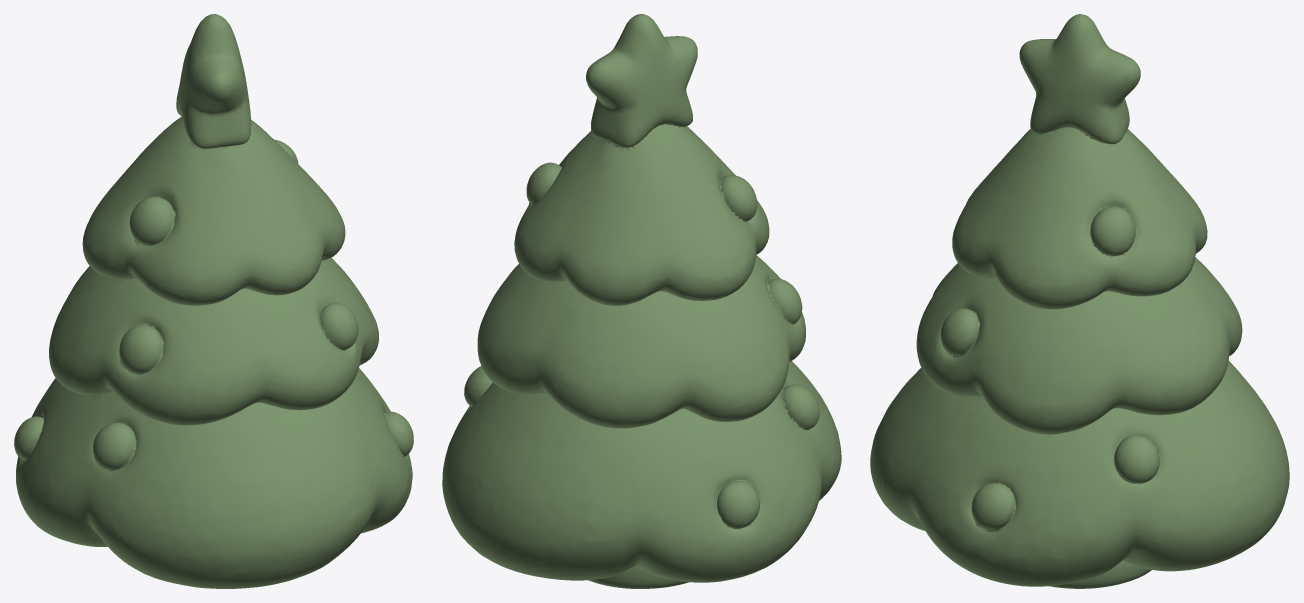
Rendered from christmas-tree.glb.
3 views of the same model, side by side, from view 1: azimuth 30°, elevation 25°; view 2: azimuth 150°, elevation 25°; view 3: azimuth 270°, elevation 25° (orthographic).
Visible parts, largest first — view 1: tripo_printable_source; view 2: tripo_printable_source; view 3: tripo_printable_source.
Boxes of the visible parts, bbox=[...] form: tripo_printable_source: bbox=[14, 14, 413, 588]; tripo_printable_source: bbox=[442, 14, 841, 588]; tripo_printable_source: bbox=[870, 14, 1289, 588].
Bounding box in the file's own units: 65.64 × 100 × 70.
